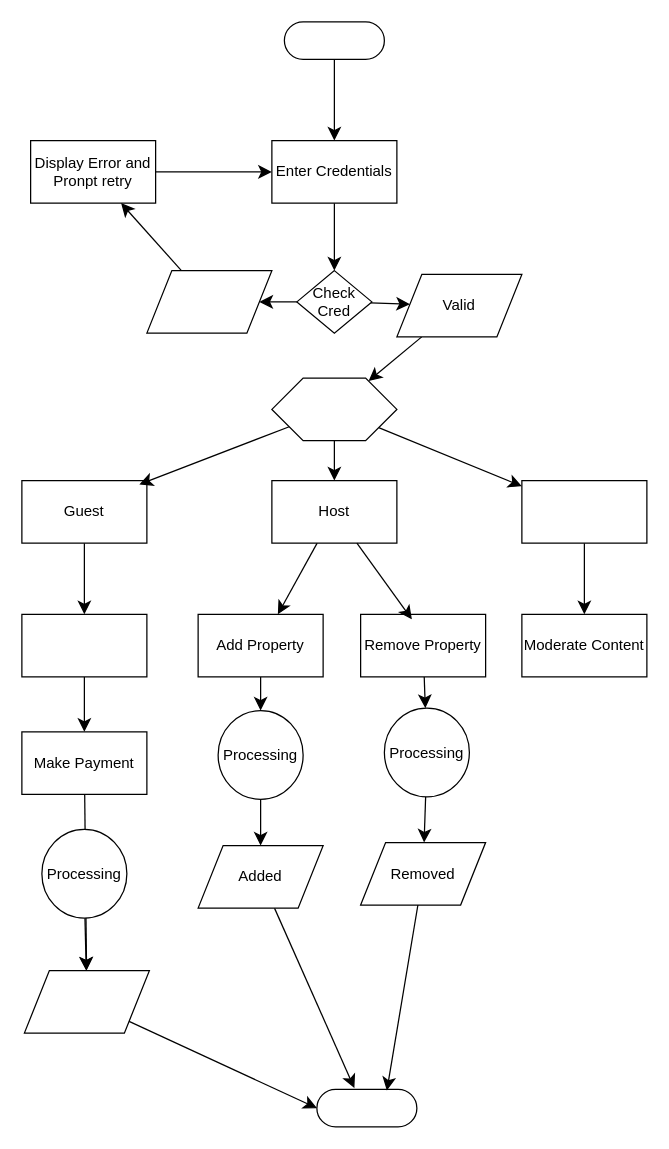
Image size: 669x1149. Some labels were removed from this diagram. The shapes that lost their labels are listed below. From the top down, each one's centre as x and y in pixels, then its label:
point (333, 40): Start
point (209, 301): Invalid
point (334, 409): Check Role
point (584, 511): Admin
point (84, 645): Make Booking
point (86, 1001): Booked
point (366, 1107): End
